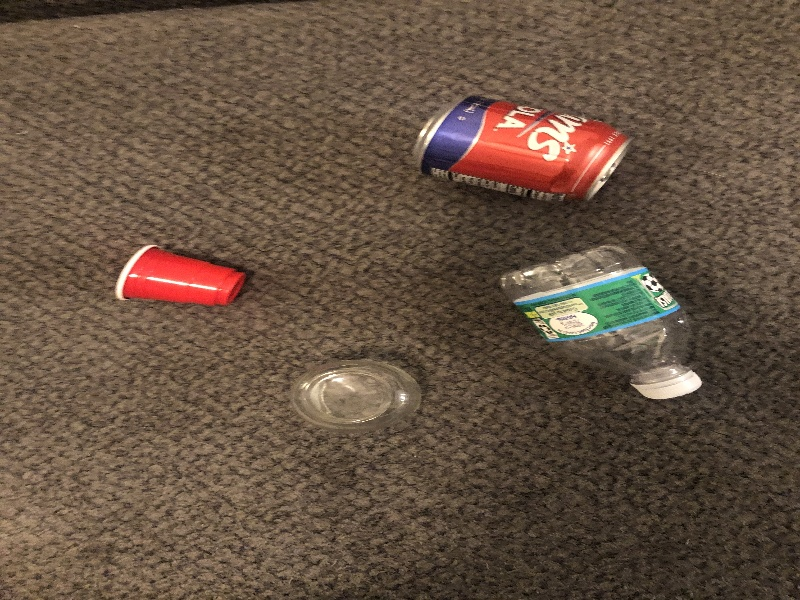glass: (286, 357, 435, 437)
metal: (407, 92, 632, 206)
plastic: (495, 237, 706, 401), (115, 242, 250, 311)
